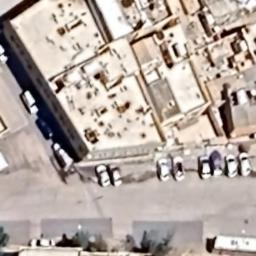SUV: (19, 87, 41, 114)
sedan: (51, 140, 76, 169), (34, 115, 58, 141), (93, 162, 113, 187), (106, 162, 124, 188), (238, 149, 252, 178), (226, 152, 240, 180), (198, 154, 212, 181), (156, 155, 170, 181), (172, 155, 186, 181)
van: (210, 149, 224, 177)
